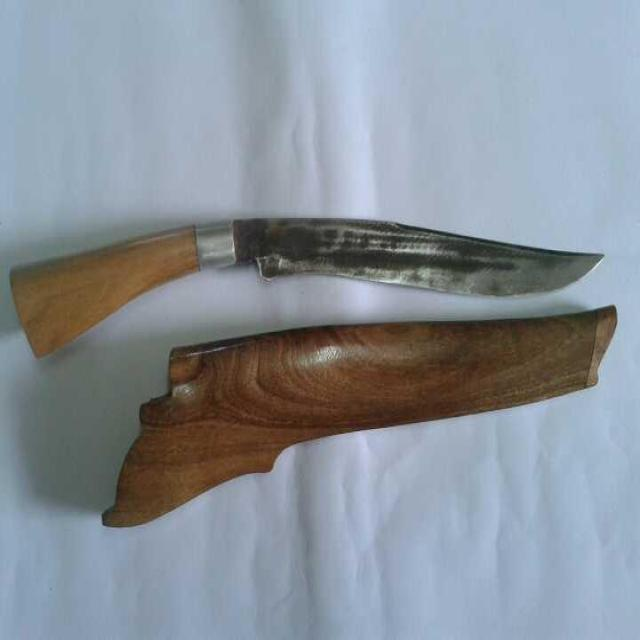Pisau: (6, 204, 610, 379)
